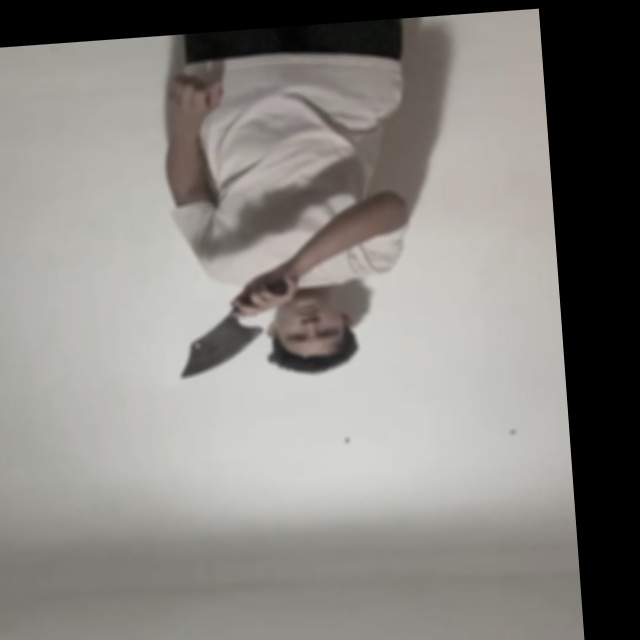Sharp-Object: (181, 321, 262, 380)
